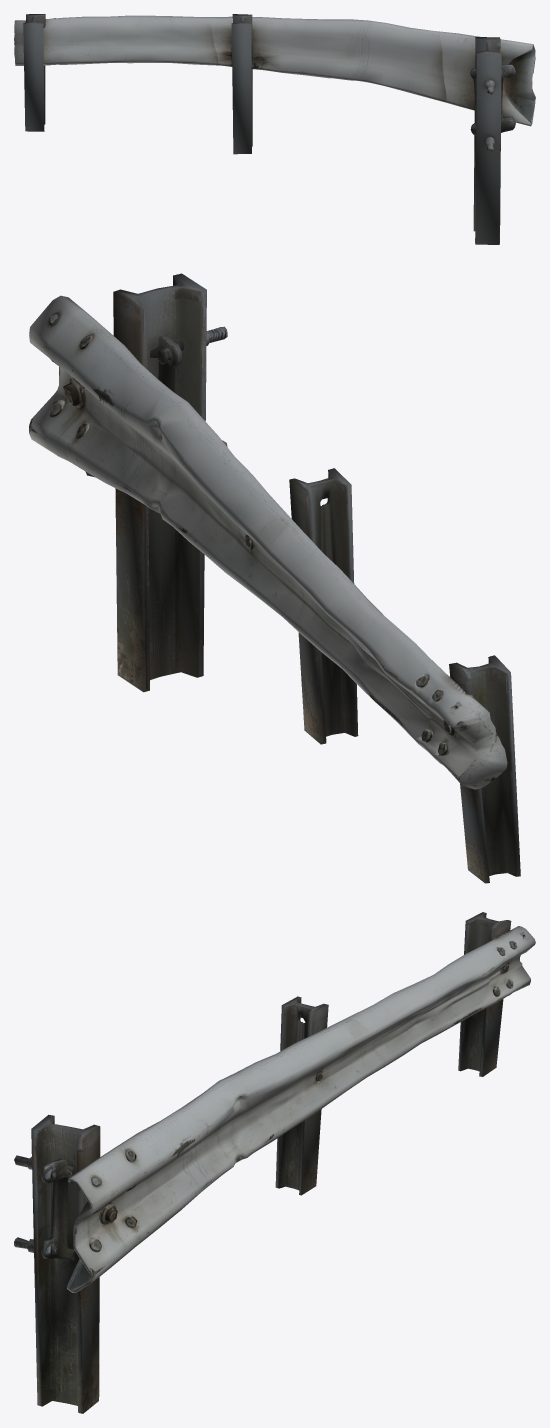
Rendered from weathered_guardrail.glb.
3 views of the same model, one above another, from view 1: azimuth 30°, elevation 25°; view 2: azimuth 150°, elevation 25°; view 3: azimuth 270°, elevation 25° (orthographic). The views are drawn at different scales.
Visible parts, largest first — view 1: tripo_node_fca47d25-d608-4fb3-842a-3337bbc8c46b; view 2: tripo_node_fca47d25-d608-4fb3-842a-3337bbc8c46b; view 3: tripo_node_fca47d25-d608-4fb3-842a-3337bbc8c46b.
Part boxes in pixels (left/top/right/bottom): tripo_node_fca47d25-d608-4fb3-842a-3337bbc8c46b: left=14, top=14, right=535, bottom=244; tripo_node_fca47d25-d608-4fb3-842a-3337bbc8c46b: left=29, top=273, right=520, bottom=883; tripo_node_fca47d25-d608-4fb3-842a-3337bbc8c46b: left=14, top=912, right=535, bottom=1413.
Size of the model in its own units: 0.998 by 0.498 by 0.8262.
Materials: 1 (1 with a texture image).
